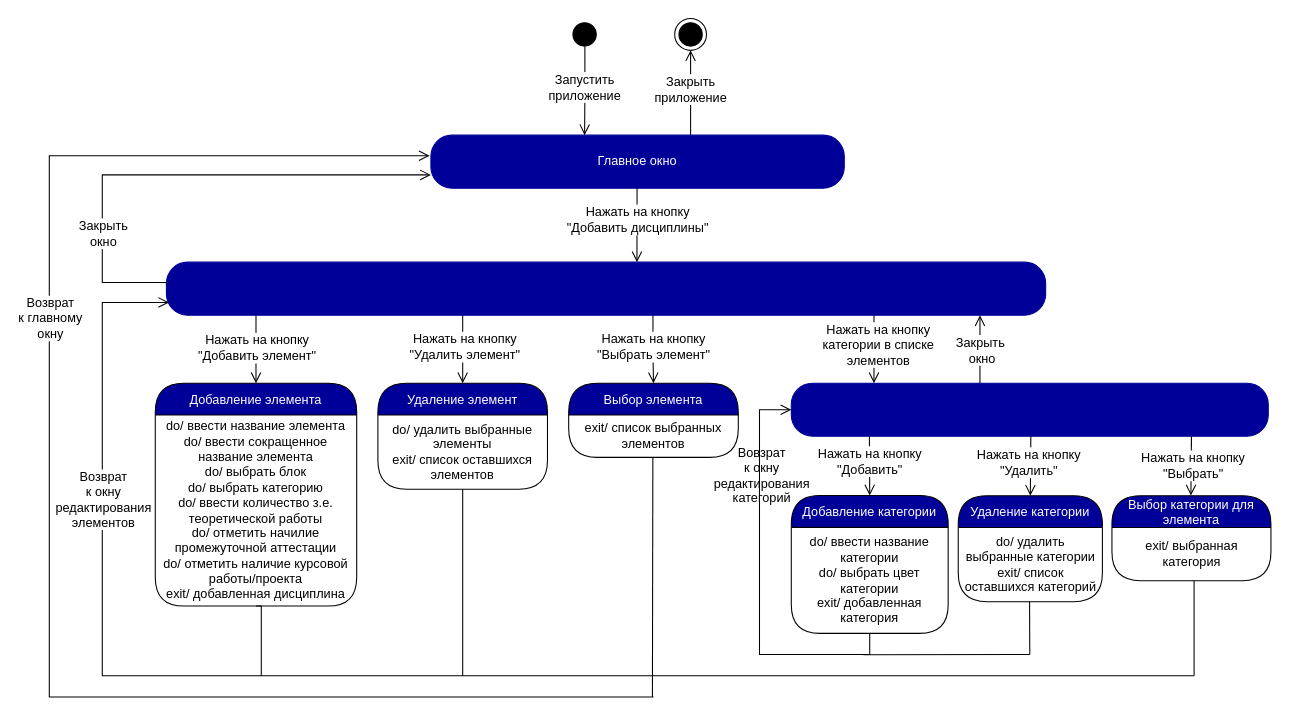
Some shapes in this 1290 by 726 pixel diagram are drawn without their labels. The shapes that lost their labels are listed below. From the top down, each one's centre as x and y in pixels, then its label:
point (605, 288): Окно редактирования элементов
point (1029, 409): Окно редактирования категорий
